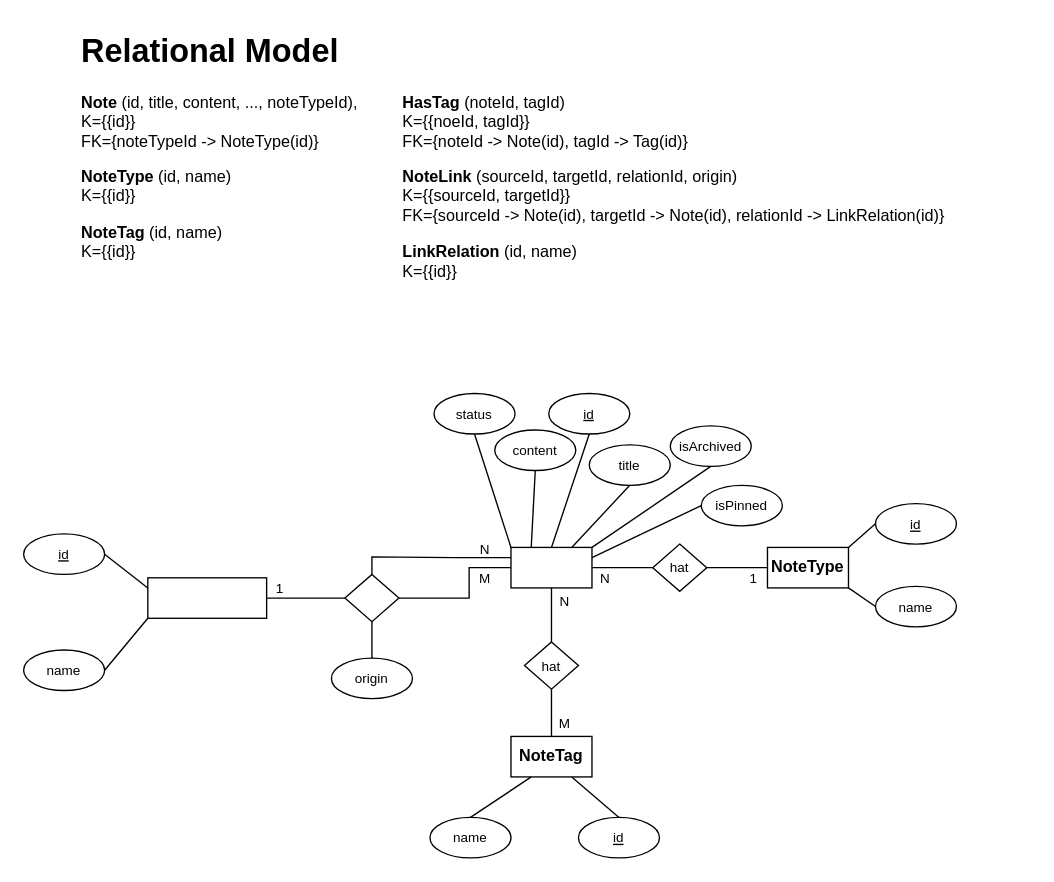
This 1054x882 diagram has some shape labels left out. Each missing label, with the centre of its shape:
LinkRelation: [206,597]
Note: [551,567]
verlinkt auf: [371,597]
